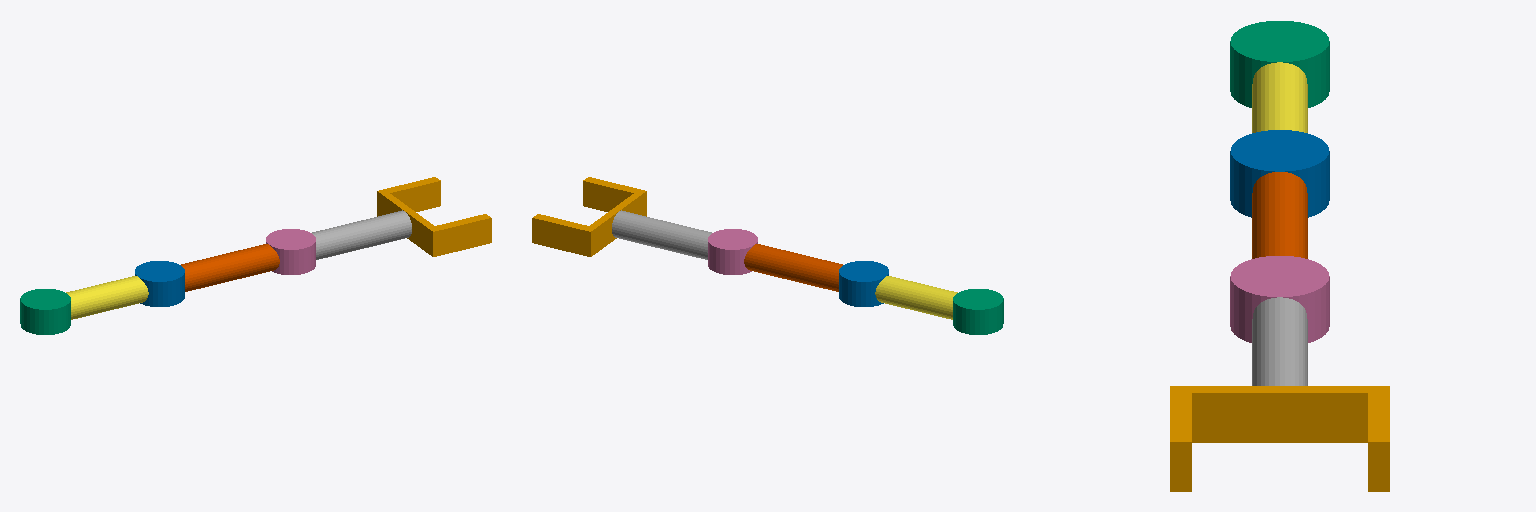
The robot description file, URDF, robot "manipulator2d":
<?xml version="1.0" ?>
<!-- =================================================================================== -->
<!-- |    This document was autogenerated by xacro from manipulator_pusher2d.xacro     | -->
<!-- |    EDITING THIS FILE BY HAND IS NOT RECOMMENDED                                 | -->
<!-- =================================================================================== -->
<!-- Manipulator 2D robot (based on Revolute-Revolute Manipulator) -->
<robot name="manipulator2d" xmlns:xacro="http://www.ros.org/wiki/xacro">
  <!--&lt;!&ndash; Import all Gazebo-customization elements, including Gazebo colors &ndash;&gt;-->
  <!--<xacro:include filename="$(find manipulator2d_description)/urdf/manipulator2d.gazebo" />-->
  <!--&lt;!&ndash; Import Rviz colors &ndash;&gt;-->
  <!--<xacro:include filename="$(find manipulator2d_description)/urdf/materials.xacro" />-->
  <!-- Used for fixing robot to Gazebo 'base_link' -->
  <link name="world"/>
  <!--<joint name="fixed" type="fixed">-->
  <!--<parent link="world"/>-->
  <!--<child link="link1"/>-->
  <!--<origin xyz="0 0 ${base_z}" rpy="0 0 0"/>-->
  <!--</joint>-->
  <joint name="fixed" type="fixed">
    <parent link="world"/>
    <child link="base_link"/>
    <origin rpy="0 0 0" xyz="0 0 0.0"/>
  </joint>
  <link name="base_link">
    <collision>
      <origin rpy="0 0 0" xyz="0 0 0.025"/>
      <geometry>
        <cylinder length="0.03" radius="0.01"/>
      </geometry>
    </collision>
    <visual>
      <origin rpy="0 0 0" xyz="0 0 0.025"/>
      <geometry>
        <cylinder length="0.03" radius="0.01"/>
      </geometry>
      <material name="black"/>
    </visual>
    <inertial>
      <origin rpy="0 0 0" xyz="0 0 0.025"/>
      <mass value="2.46615023307"/>
      <inertia ixx="0.000575435054383" ixy="0.0" ixz="0.0" iyy="0.000575435054383" iyz="0.0" izz="0.000123307511653"/>
    </inertial>
  </link>
  <joint name="joint0" type="revolute">
    <parent link="base_link"/>
    <child link="coupler0"/>
    <origin rpy="0 0 0" xyz="0 0 0.03"/>
    <limit effort="100.0" lower="-2.5" upper="2.5" velocity="3.14159265"/>
    <axis xyz="0 0 1"/>
    <dynamics damping="1.0"/>
  </joint>
  <link name="coupler0">
    <collision>
      <origin rpy="0 0 0" xyz="0 0 0"/>
      <geometry>
        <!--<sphere radius="${radius_axel}"/>-->
        <cylinder length="0.05" radius="0.045"/>
      </geometry>
      <material name="white"/>
    </collision>
    <visual>
      <origin rpy="0 0 0" xyz="0 0 0"/>
      <geometry>
        <!--<sphere radius="${radius_axel}"/>-->
        <cylinder length="0.05" radius="0.045"/>
      </geometry>
      <material name="white"/>
    </visual>
    <inertial>
      <origin rpy="0 0 0" xyz="0 0 0"/>
      <mass value="0.001"/>
      <inertia ixx="0.001" ixy="0.0" ixz="0.0" iyy="0.001" iyz="0.0" izz="0.001"/>
    </inertial>
  </link>
  <joint name="coupler_joint0" type="fixed">
    <parent link="coupler0"/>
    <child link="link1"/>
    <origin rpy="0 0 0" xyz="0 0 0"/>
  </joint>
  <!-- Base Link -->
  <link name="link1">
    <collision>
      <origin rpy="1.57079632679 0 1.57079632679" xyz="0.1 0 0"/>
      <geometry>
        <cylinder length="0.2" radius="0.025"/>
      </geometry>
    </collision>
    <visual>
      <origin rpy="1.57079632679 0 1.57079632679" xyz="0.1 0 0"/>
      <geometry>
        <cylinder length="0.2" radius="0.025"/>
      </geometry>
      <material name="blue"/>
    </visual>
    <inertial>
      <origin rpy="1.57079632679 0 1.57079632679" xyz="0.1 0 0"/>
      <mass value="0.848230016469"/>
      <inertia ixx="0.0029599693283" ixy="0.0" ixz="0.0" iyy="0.0029599693283" iyz="0.0" izz="0.000265071880147"/>
    </inertial>
  </link>
  <joint name="joint1" type="revolute">
    <parent link="link1"/>
    <child link="coupler1"/>
    <origin rpy="0 0 0" xyz="0.235 0 0"/>
    <limit effort="100.0" lower="-2.3213" upper="2.3" velocity="3.14159265"/>
    <axis xyz="0 0 1"/>
    <dynamics damping="1.0"/>
  </joint>
  <link name="coupler1">
    <collision>
      <origin rpy="0 0 0" xyz="0 0 0"/>
      <geometry>
        <cylinder length="0.05" radius="0.045"/>
      </geometry>
      <material name="white"/>
    </collision>
    <visual>
      <origin rpy="0 0 0" xyz="0 0 0"/>
      <geometry>
        <cylinder length="0.05" radius="0.045"/>
      </geometry>
      <material name="white"/>
    </visual>
    <inertial>
      <origin rpy="0 0 0" xyz="0 0 0"/>
      <mass value="0.001"/>
      <inertia ixx="0.001" ixy="0.0" ixz="0.0" iyy="0.001" iyz="0.0" izz="0.001"/>
    </inertial>
  </link>
  <joint name="coupler_joint1" type="fixed">
    <parent link="coupler1"/>
    <child link="link2"/>
    <origin rpy="0 0 0" xyz="0.035 0 0"/>
  </joint>
  <!--Middle Link-->
  <link name="link2">
    <collision>
      <origin rpy="1.57079632679 0 1.57079632679" xyz="0.1 0 0"/>
      <geometry>
        <cylinder length="0.2" radius="0.025"/>
      </geometry>
    </collision>
    <visual>
      <origin rpy="1.57079632679 0 1.57079632679" xyz="0.1 0 0"/>
      <geometry>
        <cylinder length="0.2" radius="0.025"/>
      </geometry>
      <material name="blue"/>
    </visual>
    <inertial>
      <origin rpy="1.57079632679 0 1.57079632679" xyz="0.1 0 0"/>
      <mass value="0.848230016469"/>
      <inertia ixx="0.0029599693283" ixy="0.0" ixz="0.0" iyy="0.0029599693283" iyz="0.0" izz="0.000265071880147"/>
    </inertial>
  </link>
  <joint name="joint2" type="revolute">
    <parent link="link2"/>
    <child link="coupler2"/>
    <origin rpy="0 0 0" xyz="0.235 0 0"/>
    <limit effort="100.0" lower="-2.3213" upper="2.3" velocity="3.14159265"/>
    <axis xyz="0 0 1"/>
    <dynamics damping="1.0"/>
  </joint>
  <link name="coupler2">
    <collision>
      <origin rpy="0 0 0" xyz="0 0 0"/>
      <geometry>
        <cylinder length="0.05" radius="0.045"/>
      </geometry>
      <material name="white"/>
    </collision>
    <visual>
      <origin rpy="0 0 0" xyz="0 0 0"/>
      <geometry>
        <cylinder length="0.05" radius="0.045"/>
      </geometry>
      <material name="white"/>
    </visual>
    <inertial>
      <origin rpy="0 0 0" xyz="0 0 0"/>
      <mass value="0.001"/>
      <inertia ixx="0.001" ixy="0.0" ixz="0.0" iyy="0.001" iyz="0.0" izz="0.001"/>
    </inertial>
  </link>
  <joint name="coupler_joint2" type="fixed">
    <parent link="coupler2"/>
    <child link="link3"/>
    <origin rpy="0 0 0" xyz="0.035 0 0"/>
  </joint>
  <!--Top Link-->
  <link name="link3">
    <collision>
      <origin rpy="1.57079632679 0 1.57079632679" xyz="0.1 0 0"/>
      <geometry>
        <cylinder length="0.2" radius="0.025"/>
      </geometry>
    </collision>
    <visual>
      <origin rpy="1.57079632679 0 1.57079632679" xyz="0.1 0 0"/>
      <geometry>
        <cylinder length="0.2" radius="0.025"/>
      </geometry>
      <material name="blue"/>
    </visual>
    <inertial>
      <origin rpy="1.57079632679 0 1.57079632679" xyz="0.1 0 0"/>
      <mass value="0.848230016469"/>
      <inertia ixx="0.0029599693283" ixy="0.0" ixz="0.0" iyy="0.0029599693283" iyz="0.0" izz="0.000265071880147"/>
    </inertial>
  </link>
  <joint name="gripper_joint" type="fixed">
    <parent link="link3"/>
    <child link="gripper"/>
    <origin rpy="0 0 0" xyz="0.2 0 0"/>
  </joint>
  <link name="gripper">
    <collision>
      <origin rpy="1.57079632679 0 1.57079632679" xyz="0.0075 0 0"/>
      <geometry>
        <box size="0.2 0.05 0.015"/>
      </geometry>
      <material name="white"/>
    </collision>
    <collision>
      <origin rpy="1.57079632679 0 1.57079632679" xyz="0.0675 0.09 0"/>
      <geometry>
        <box size="0.02 0.05 0.105"/>
      </geometry>
      <material name="white"/>
    </collision>
    <collision>
      <origin rpy="1.57079632679 0 1.57079632679" xyz="0.0675 -0.09 0"/>
      <geometry>
        <box size="0.02 0.05 0.105"/>
      </geometry>
      <material name="white"/>
    </collision>
    <visual>
      <origin rpy="1.57079632679 0 1.57079632679" xyz="0.0075 0 0"/>
      <geometry>
        <box size="0.2 0.05 0.015"/>
      </geometry>
      <material name="white"/>
    </visual>
    <visual>
      <origin rpy="1.57079632679 0 1.57079632679" xyz="0.0675 0.09 0"/>
      <geometry>
        <box size="0.02 0.05 0.105"/>
      </geometry>
      <material name="white"/>
    </visual>
    <visual>
      <origin rpy="1.57079632679 0 1.57079632679" xyz="0.0675 -0.09 0"/>
      <geometry>
        <box size="0.02 0.05 0.105"/>
      </geometry>
      <material name="white"/>
    </visual>
    <inertial>
      <origin rpy="0 0 0" xyz="0 0 0"/>
      <mass value="0.1"/>
      <inertia ixx="0.001" ixy="0.0" ixz="0.0" iyy="0.001" iyz="0.0" izz="0.001"/>
    </inertial>
  </link>
  <joint name="gripper_center_joint" type="fixed">
    <parent link="gripper"/>
    <child link="gripper_center"/>
    <origin rpy="0 0 0" xyz="0.07 0 0"/>
  </joint>
  <link name="gripper_center">
    <!--<visual>-->
    <!--<origin xyz="0 0 0" rpy="0 0 0"/>-->
    <!--<geometry>-->
    <!--<cylinder length="${height_axel}" radius="${radius_axel}"/>-->
    <!--</geometry>-->
    <!--<material name="white"/>-->
    <!--</visual>-->
    <inertial>
      <origin rpy="0 0 0" xyz="0 0 0"/>
      <mass value="0.001"/>
      <inertia ixx="0.001" ixy="0.0" ixz="0.0" iyy="0.001" iyz="0.0" izz="0.001"/>
    </inertial>
  </link>
  <!--<joint name="hokuyo_joint" type="fixed">-->
  <!--<axis xyz="0 1 0" />-->
  <!--<origin xyz="0 0 ${height3 - axel_offset/2}" rpy="0 0 0"/>-->
  <!--<parent link="link3"/>-->
  <!--<child link="hokuyo_link"/>-->
  <!--</joint>-->
  <!--&lt;!&ndash; Hokuyo Laser &ndash;&gt;-->
  <!--<link name="hokuyo_link">-->
  <!--<collision>-->
  <!--<origin xyz="0 0 0" rpy="0 0 0"/>-->
  <!--<geometry>-->
  <!--<box size="0.1 0.1 0.1"/>-->
  <!--</geometry>-->
  <!--</collision>-->
  <!--<visual>-->
  <!--<origin xyz="0 0 0" rpy="0 0 0"/>-->
  <!--<geometry>-->
  <!--<mesh filename="package://manipulator2d_description/meshes/hokuyo.dae"/>-->
  <!--</geometry>-->
  <!--</visual>-->
  <!--<inertial>-->
  <!--<mass value="1e-5" />-->
  <!--<origin xyz="0 0 0" rpy="0 0 0"/>-->
  <!--<inertia ixx="1e-6" ixy="0" ixz="0" iyy="1e-6" iyz="0" izz="1e-6" />-->
  <!--</inertial>-->
  <!--</link>-->
  <!--<joint name="camera_joint" type="fixed">-->
  <!--<axis xyz="0 1 0" />-->
  <!--<origin xyz="${camera_x} ${camera_y} ${camera_z}" rpy="0 ${PI/2} ${PI/2}"/>-->
  <!--<parent link="base_link"/>-->
  <!--<child link="camera_link"/>-->
  <!--</joint>-->
  <!-- Camera -->
  <!--<link name="camera_link">-->
  <!--&lt;!&ndash;<collision>&ndash;&gt;-->
  <!--&lt;!&ndash;<origin xyz="0 0 0" rpy="0 0 0"/>&ndash;&gt;-->
  <!--&lt;!&ndash;<geometry>&ndash;&gt;-->
  <!--&lt;!&ndash;<box size="${camera_link} ${camera_link} ${camera_link}"/>&ndash;&gt;-->
  <!--&lt;!&ndash;</geometry>&ndash;&gt;-->
  <!--&lt;!&ndash;</collision>&ndash;&gt;-->
  <!--&lt;!&ndash;<visual>&ndash;&gt;-->
  <!--&lt;!&ndash;<origin xyz="0 0 0" rpy="0 0 0"/>&ndash;&gt;-->
  <!--&lt;!&ndash;<geometry>&ndash;&gt;-->
  <!--&lt;!&ndash;<box size="${camera_link} ${camera_link} ${camera_link}"/>&ndash;&gt;-->
  <!--&lt;!&ndash;</geometry>&ndash;&gt;-->
  <!--&lt;!&ndash;<material name="red"/>&ndash;&gt;-->
  <!--&lt;!&ndash;</visual>&ndash;&gt;-->
  <!--&lt;!&ndash;<inertial>&ndash;&gt;-->
  <!--&lt;!&ndash;<mass value="1e-5" />&ndash;&gt;-->
  <!--&lt;!&ndash;<origin xyz="0 0 0" rpy="0 0 0"/>&ndash;&gt;-->
  <!--&lt;!&ndash;<inertia ixx="1e-6" ixy="0" ixz="0" iyy="1e-6" iyz="0" izz="1e-6" />&ndash;&gt;-->
  <!--&lt;!&ndash;</inertial>&ndash;&gt;-->
  <!--</link>-->
  <!-- generate an optical frame http://www.ros.org/reps/rep-0103.html#suffix-frames
      so that ros and opencv can operate on the camera frame correctly -->
  <!--<joint name="camera_optical_joint" type="fixed">-->
  <!--&lt;!&ndash; these values have to be these values otherwise the gazebo camera image-->
  <!--won't be aligned properly with the frame it is supposedly originating from &ndash;&gt;-->
  <!--<origin xyz="0 0 0" rpy="${-pi/2} 0 ${-pi/2}"/>-->
  <!--<parent link="camera_link"/>-->
  <!--<child link="camera_link_optical"/>-->
  <!--</joint>-->
  <!--<link name="camera_link_optical">-->
  <!--</link>-->
  <transmission name="tran0">
    <type>transmission_interface/SimpleTransmission</type>
    <joint name="joint0">
      <hardwareInterface>hardware_interface/EffortJointInterface</hardwareInterface>
    </joint>
    <actuator name="motor0">
      <hardwareInterface>hardware_interface/EffortJointInterface</hardwareInterface>
      <mechanicalReduction>1</mechanicalReduction>
    </actuator>
  </transmission>
  <transmission name="tran1">
    <type>transmission_interface/SimpleTransmission</type>
    <joint name="joint1">
      <hardwareInterface>hardware_interface/EffortJointInterface</hardwareInterface>
    </joint>
    <actuator name="motor1">
      <hardwareInterface>hardware_interface/EffortJointInterface</hardwareInterface>
      <mechanicalReduction>1</mechanicalReduction>
    </actuator>
  </transmission>
  <transmission name="tran2">
    <type>transmission_interface/SimpleTransmission</type>
    <joint name="joint2">
      <hardwareInterface>hardware_interface/EffortJointInterface</hardwareInterface>
    </joint>
    <actuator name="motor2">
      <hardwareInterface>hardware_interface/EffortJointInterface</hardwareInterface>
      <mechanicalReduction>1</mechanicalReduction>
    </actuator>
  </transmission>
</robot>

--- What the picture shows (computed from the rendered views, not written in the file) ---
Views: 3 orthographic renders of the robot side by side, from view 1: azimuth 30°, elevation 25°; view 2: azimuth 150°, elevation 25°; view 3: azimuth 270°, elevation 25°.
Model manipulator2d with 10 links and 9 joints (3 revolute, 6 fixed), rooted at world, posed all joints at 0.
Links seen in each view (by area): view 1: gripper, link3, link2, link1, coupler0, coupler1, coupler2; view 2: gripper, link3, link2, link1, coupler0, coupler1, coupler2; view 3: gripper, coupler1, coupler0, coupler2, link3, link2, link1.
Boxes of the visible links, bbox=[...] form: gripper: bbox=[377, 177, 491, 256]; link3: bbox=[312, 210, 411, 259]; link2: bbox=[181, 244, 279, 291]; link1: bbox=[66, 276, 148, 319]; coupler0: bbox=[20, 289, 70, 334]; coupler1: bbox=[135, 261, 184, 306]; coupler2: bbox=[266, 229, 315, 274]; gripper: bbox=[532, 177, 646, 256]; link3: bbox=[612, 210, 711, 259]; link2: bbox=[744, 244, 842, 291]; link1: bbox=[875, 276, 957, 319]; coupler0: bbox=[953, 289, 1003, 334]; coupler1: bbox=[839, 261, 888, 306]; coupler2: bbox=[708, 229, 757, 274]; gripper: bbox=[1170, 386, 1389, 491]; coupler1: bbox=[1230, 130, 1329, 217]; coupler0: bbox=[1230, 21, 1329, 107]; coupler2: bbox=[1230, 256, 1329, 342]; link3: bbox=[1252, 297, 1307, 385]; link2: bbox=[1252, 172, 1307, 258]; link1: bbox=[1252, 62, 1307, 132].
Size in the robot's own frame: 0.905 by 0.2 by 0.05 metres.
Geometry: primitives only (box / cylinder / sphere), no mesh files.